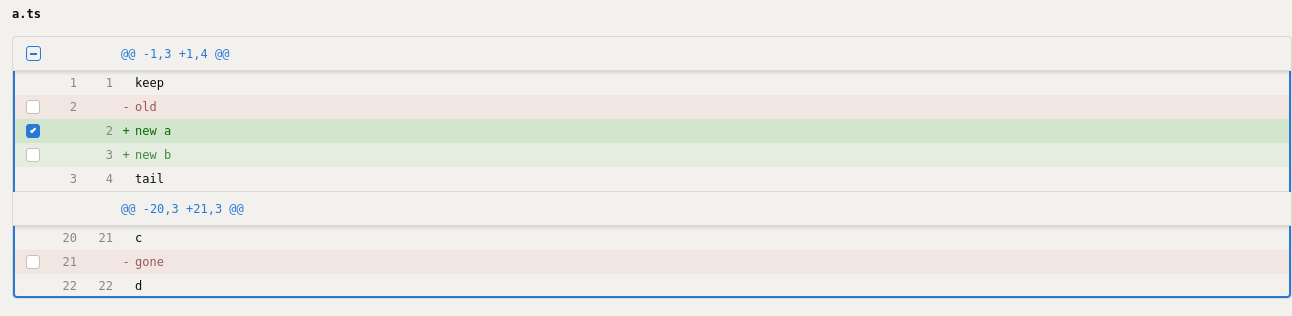
Test case: DiffView combined (checkbox) mode › context menu (FR-478) › right-click inside a Shift range acts on the whole range
Type keys "{ArrowDown}{Shift>}{ArrowDown}{/Shift}"
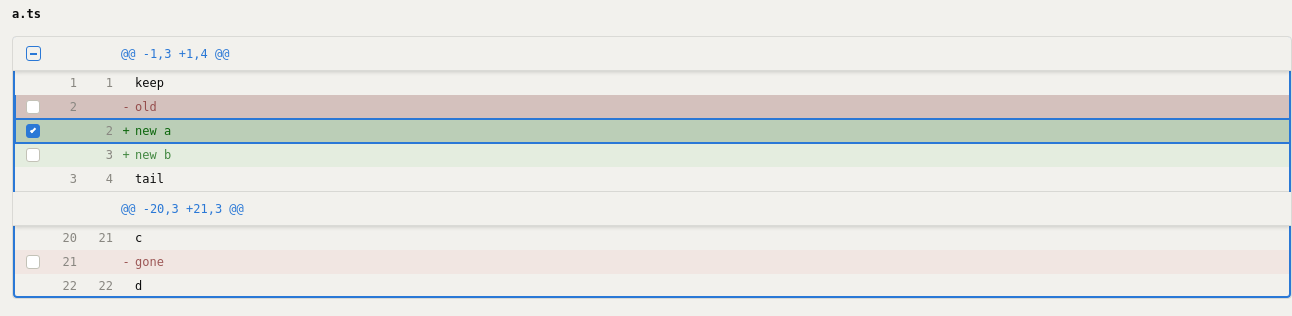
Right-click the checkbox labelled "2 + new a" at (652, 131), box [13, 119, 1291, 143]
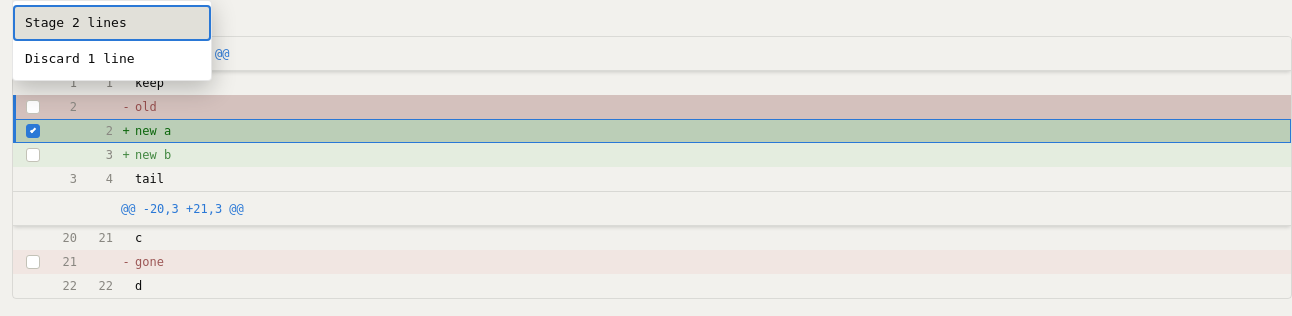
expect the menu item "Stage 2 lines" is shown: met, box [13, 5, 211, 40]
